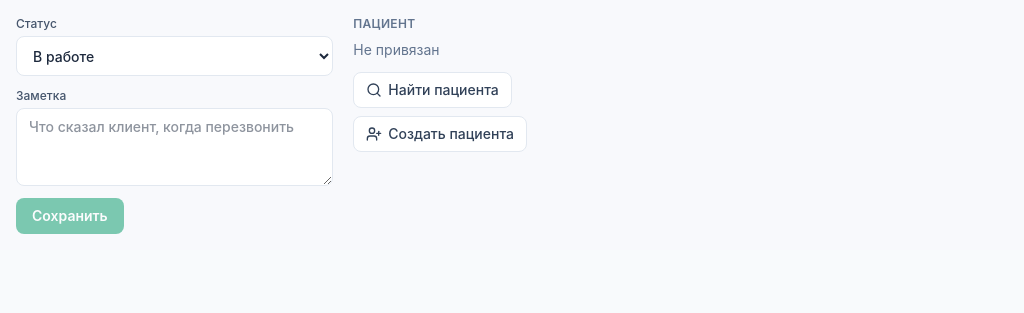
Test case: lead details › patient, not linked › shows why the search failed
Click the button "Найти пациента" at (433, 90), box [353, 72, 512, 108]
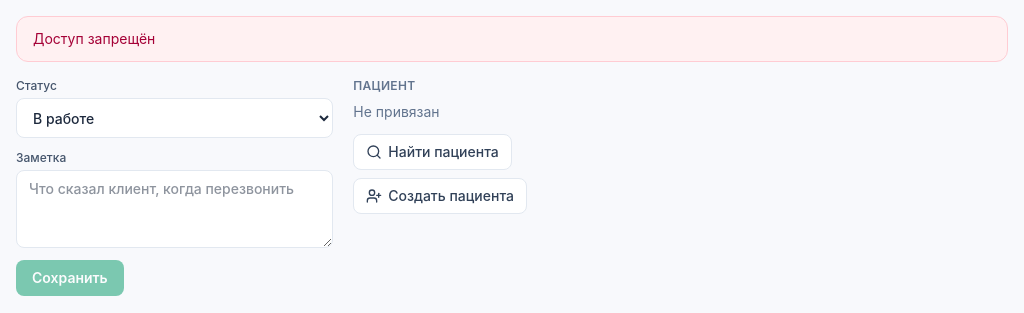
Expected: the message "Доступ запрещён" is shown, [16, 16, 1008, 62]
